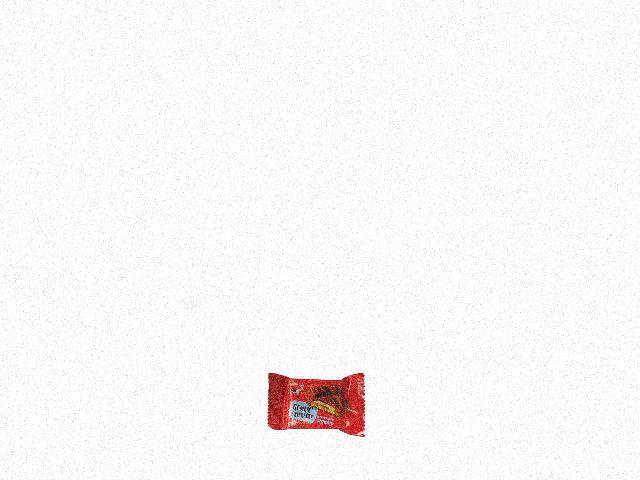chocolate: (259, 373, 365, 443)
